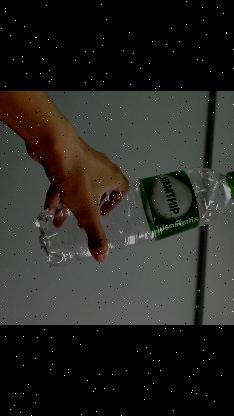Plastic Bottle: (32, 159, 234, 269)
